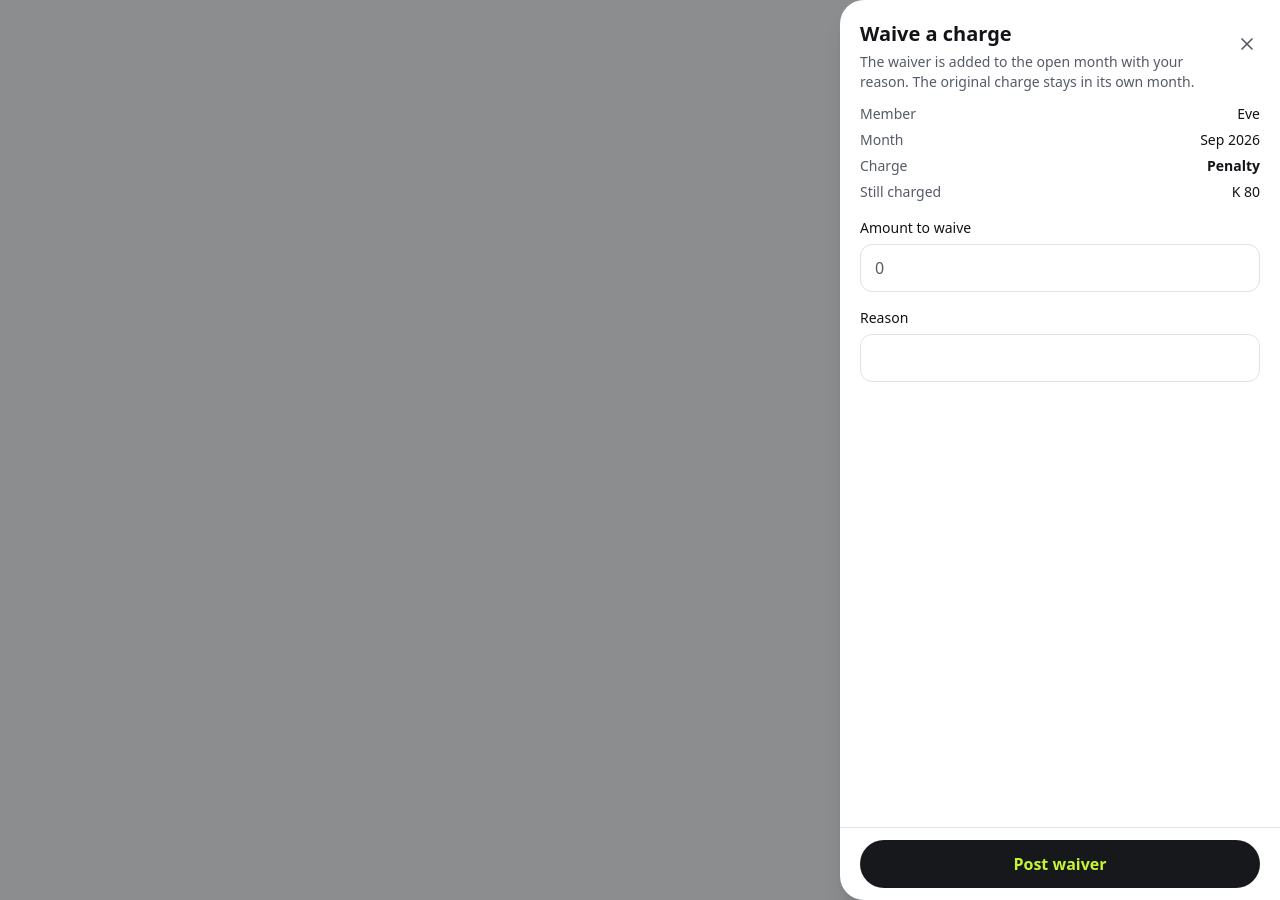
Scenario: more than is still charged is refused
Type "80.01" into the field labelled "Amount to waive".
click(1060, 268); type("80.01")  # box [860, 244, 1260, 292]
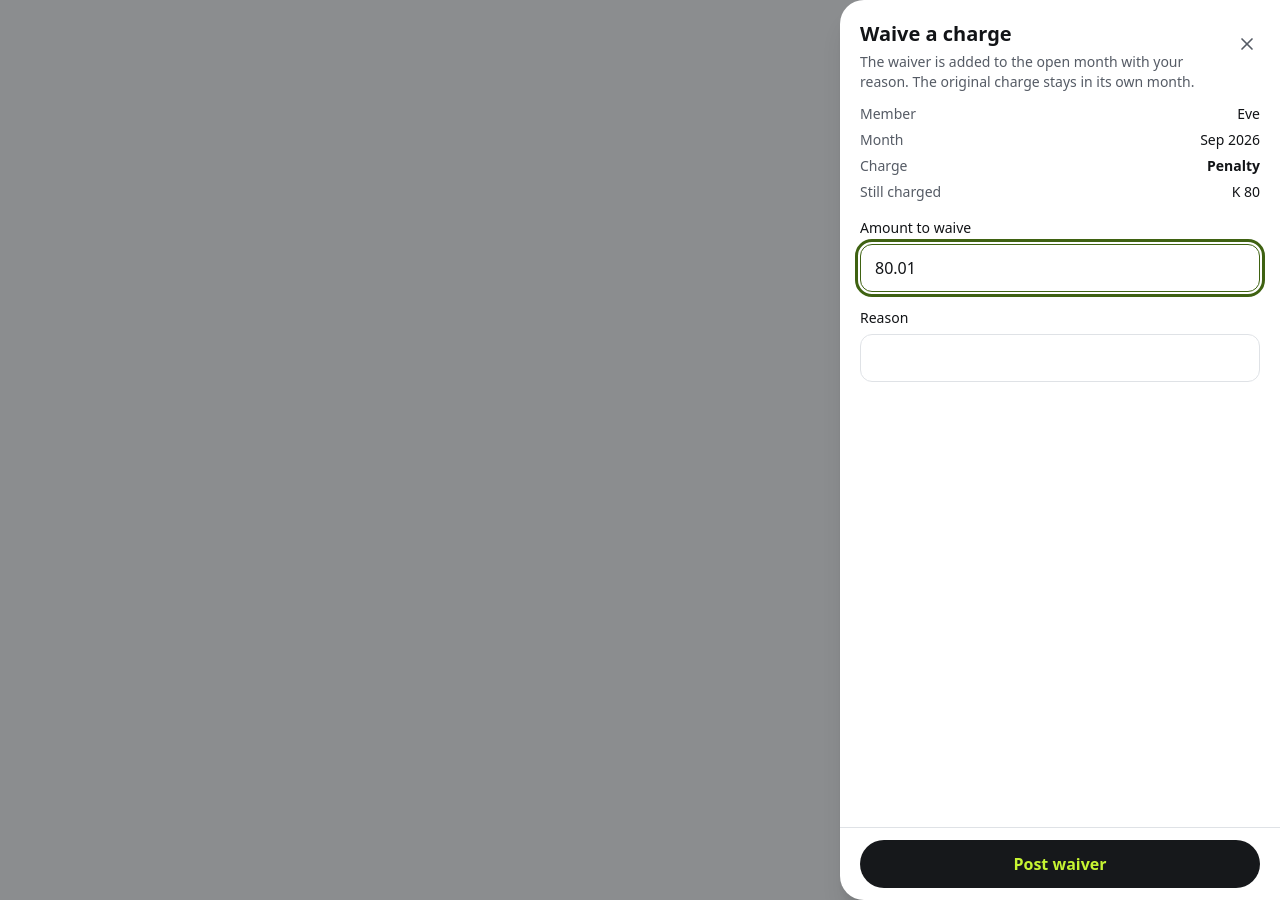
Type "x" into the field labelled "Reason".
click(1060, 358); type("x")  # box [860, 334, 1260, 382]
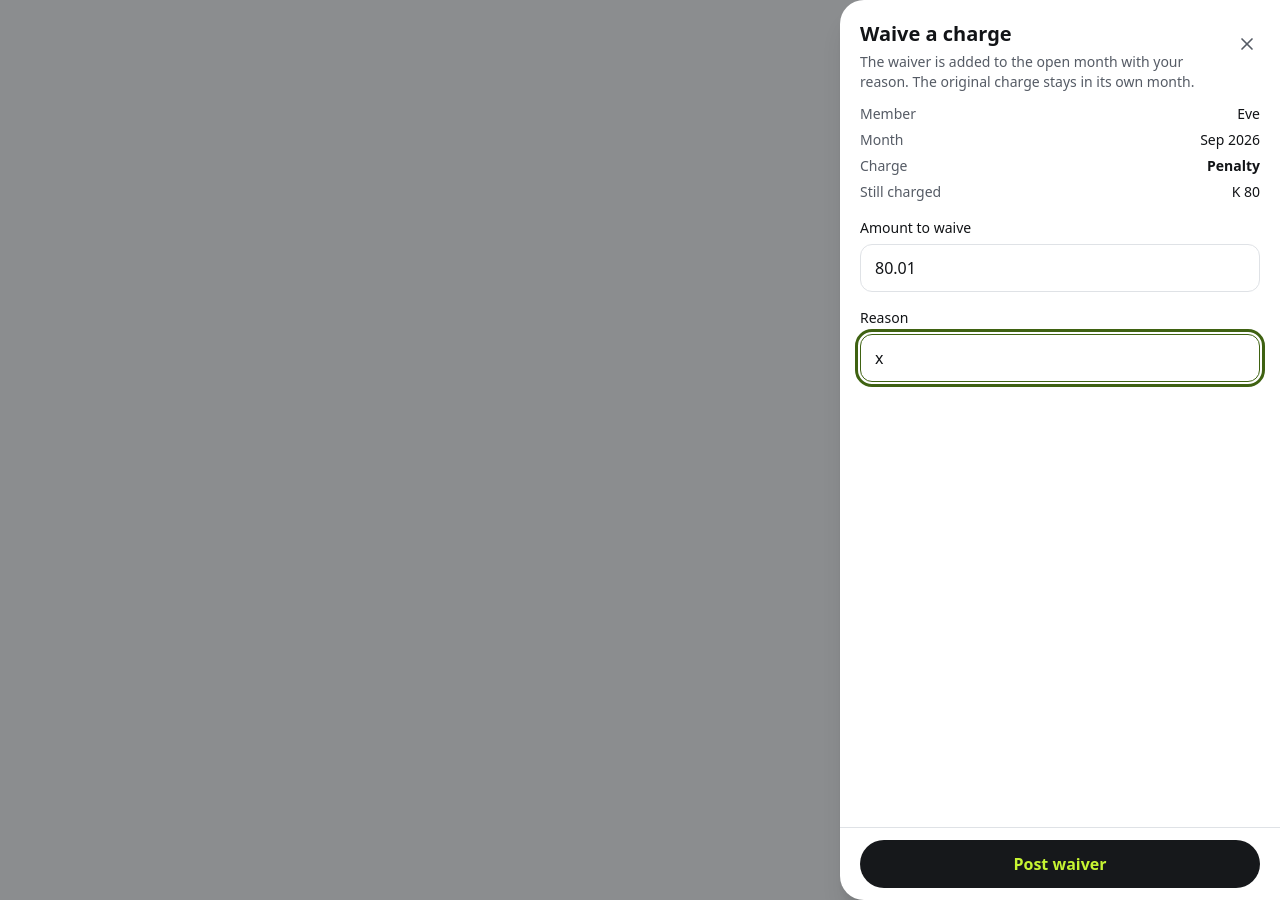
Click the button "Post waiver".
click(1060, 864)  # box [860, 840, 1260, 888]
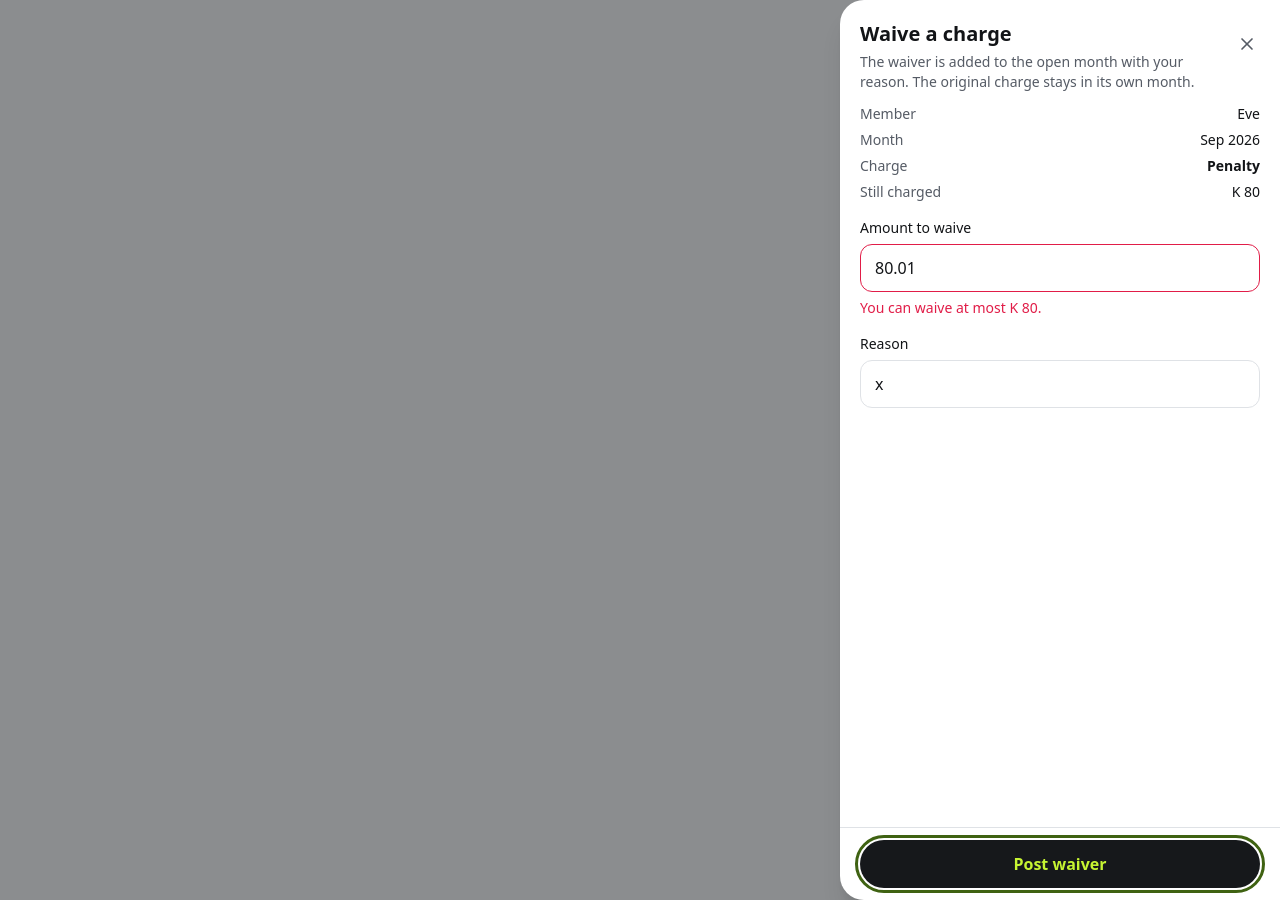
Result: the text "You can waive at most K 80." is shown at [860, 298, 1042, 317]
